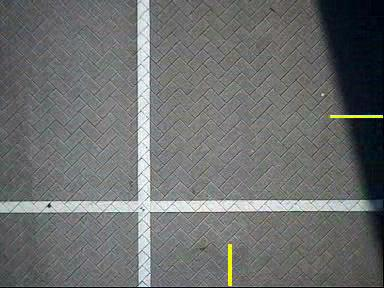groundmarker_2: (116, 76, 195, 131)
